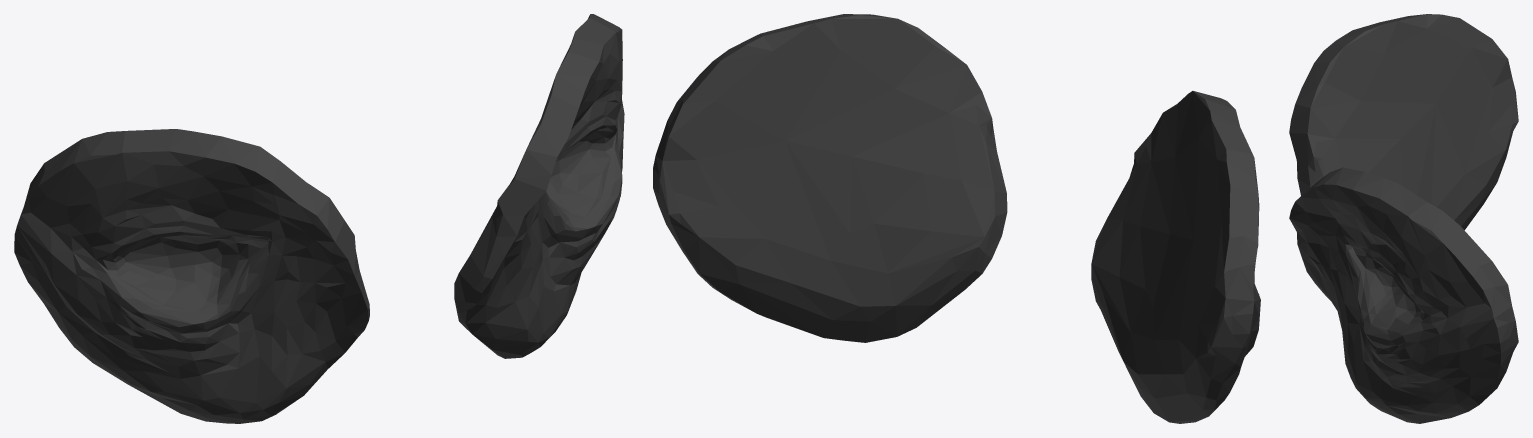
File: details_eye_area.glb
3 views of the same model, side by side, from view 1: azimuth 30°, elevation 25°; view 2: azimuth 150°, elevation 25°; view 3: azimuth 270°, elevation 25° (orthographic). The views are drawn at different scales.
Visible parts, largest first — view 1: details_eye_area; view 2: details_eye_area; view 3: details_eye_area.
Part boxes in pixels (x1,y1,x2,y2): details_eye_area: [14, 14, 624, 423]; details_eye_area: [653, 14, 1260, 423]; details_eye_area: [1289, 14, 1518, 423].
Bounding box in the file's own units: 0.00244 × 0.00119 × 0.000969.
Materials: 1 (1 with a texture image).
